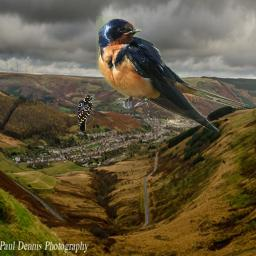Swallow: (96, 16, 249, 132)
Woodpecker: (78, 94, 95, 133)
